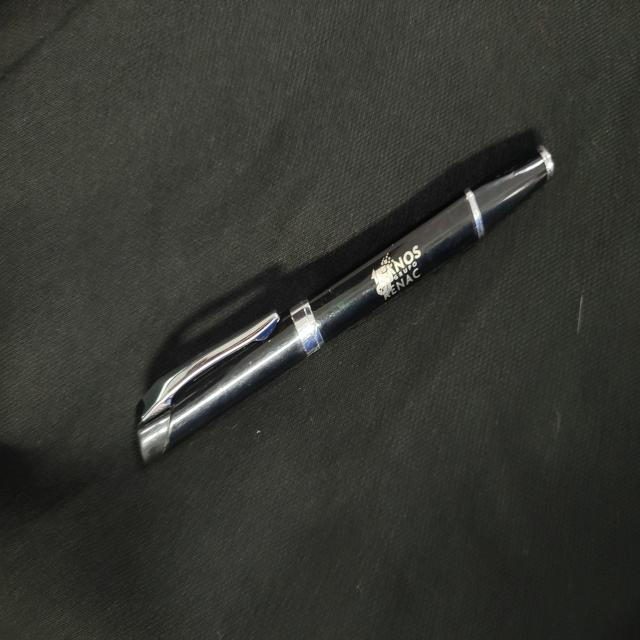caneta: (131, 113, 562, 513)
